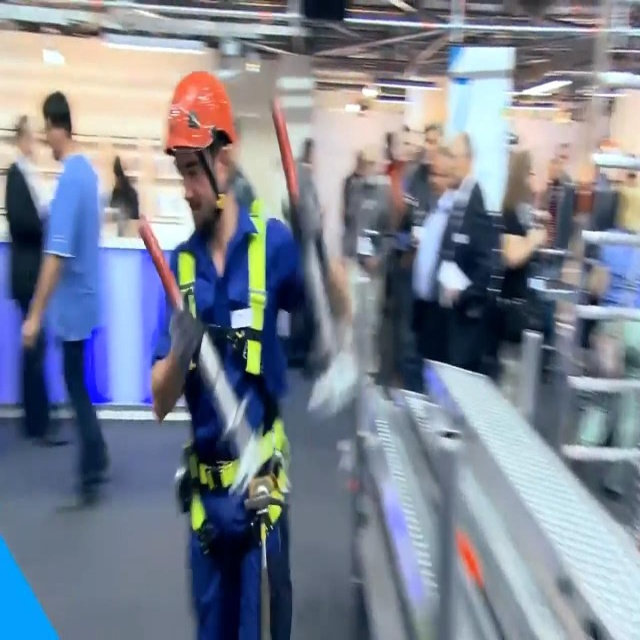Arnes_seguridad: (172, 183, 290, 550)
